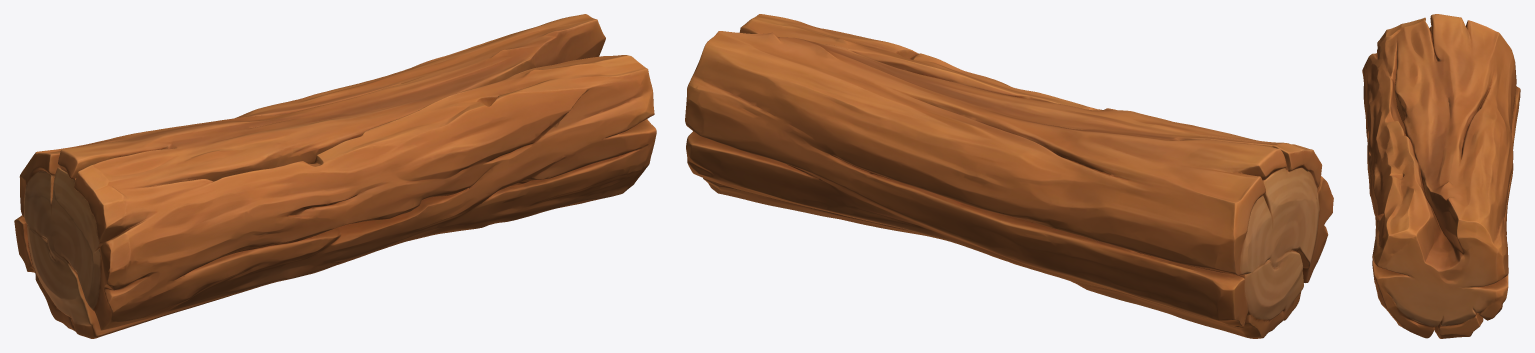
File: WoodSmall.fbx
3 views of the same model, side by side, from view 1: azimuth 30°, elevation 25°; view 2: azimuth 150°, elevation 25°; view 3: azimuth 270°, elevation 25° (orthographic). The views are drawn at different scales.
Visible parts, largest first — view 1: tripo_node_83b27557; view 2: tripo_node_83b27557; view 3: tripo_node_83b27557.
Boxes of the visible parts, <box> form: tripo_node_83b27557: <box>14,14,656,338</box>; tripo_node_83b27557: <box>685,14,1333,338</box>; tripo_node_83b27557: <box>1362,14,1520,338</box>.
Bounding box in the file's own units: 1 × 0.3058 × 0.3171.
